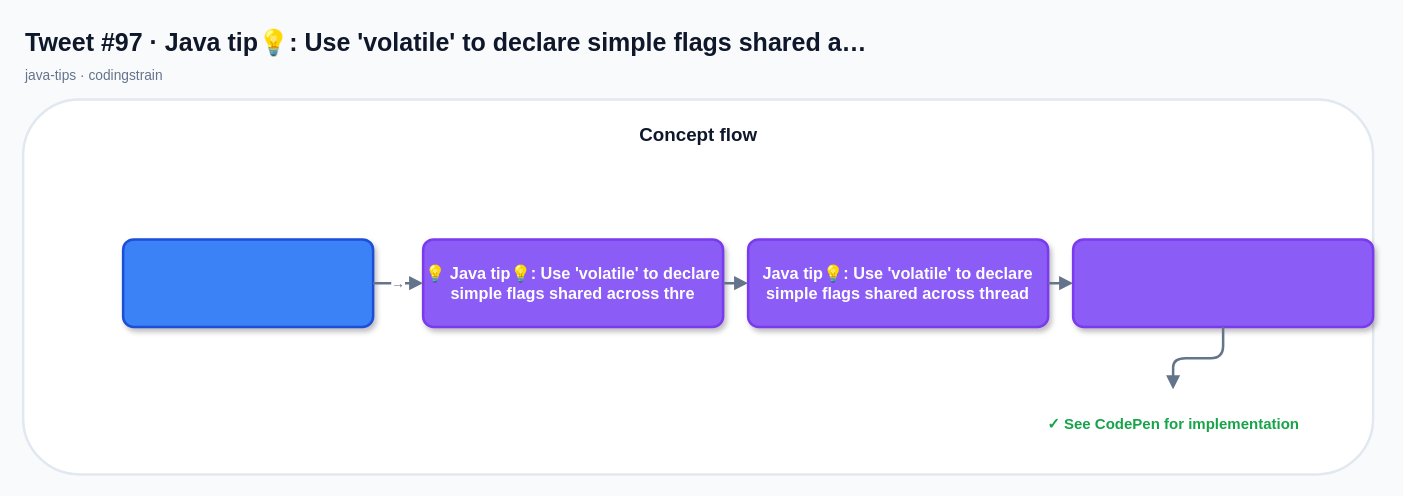
Some shapes in this 1403 by 496 pixel diagram are drawn without their labels. Each missing label, with the centre of its shape:
"Problem / context" goes at [248,284].
"Runnable sample: `java-tips`" goes at [1223,284].
